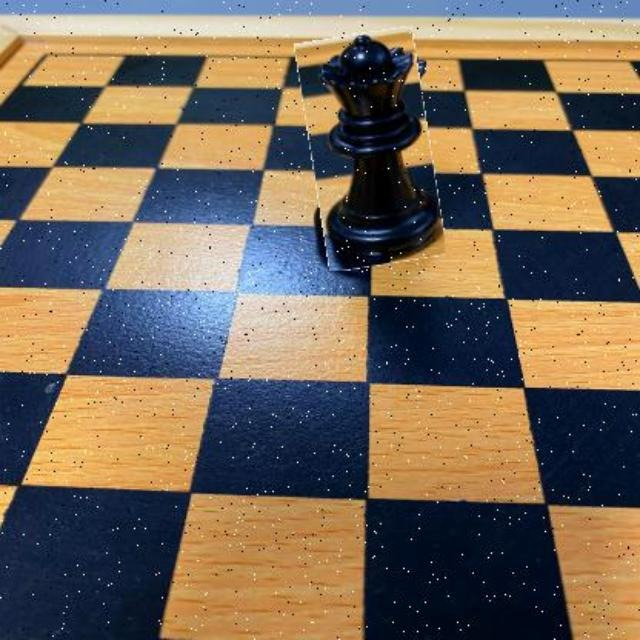black-queen: (303, 29, 437, 269)
